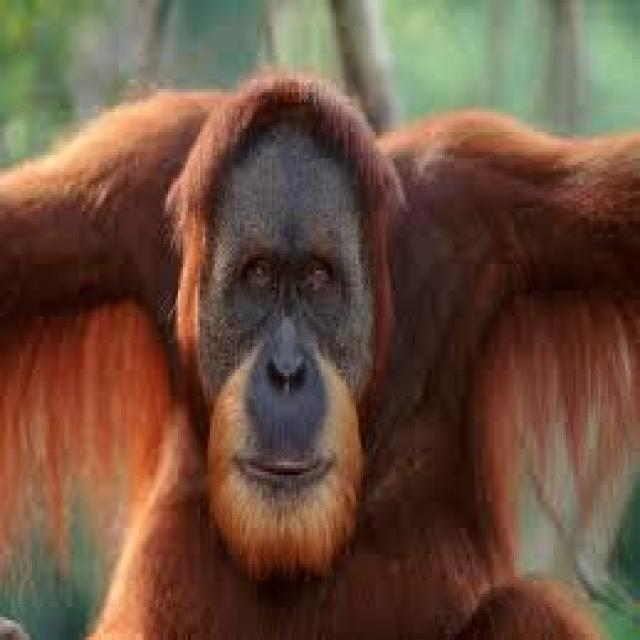Orangutan: (0, 82, 638, 640)
